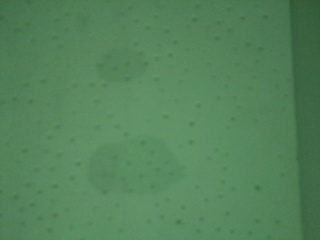Water_detected: (89, 128, 181, 198), (95, 40, 148, 84)
